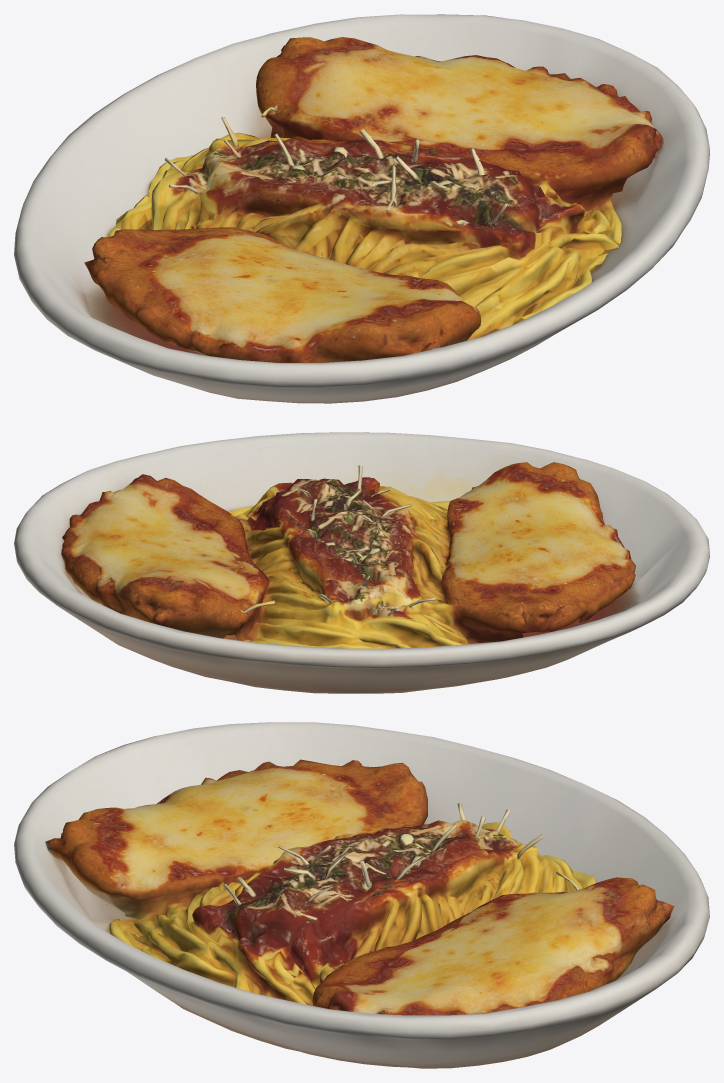
The model's file is pollo_parmigiana.fbx.
3 renders of one model, top to bottom at view 1: azimuth 30°, elevation 25°; view 2: azimuth 150°, elevation 25°; view 3: azimuth 270°, elevation 25°, orthographic. The views are drawn at different scales.
Visible parts, largest first — view 1: meshes[0]; view 2: meshes[0]; view 3: meshes[0].
Part boxes in pixels (box(x1,y1,x2,y2)): meshes[0]: box(14, 14, 709, 403); meshes[0]: box(14, 432, 709, 693); meshes[0]: box(14, 722, 709, 1068).
Bounding box in the file's own units: 99.8 × 18.55 × 91.6.
Materials: 1 (1 with a texture image).
